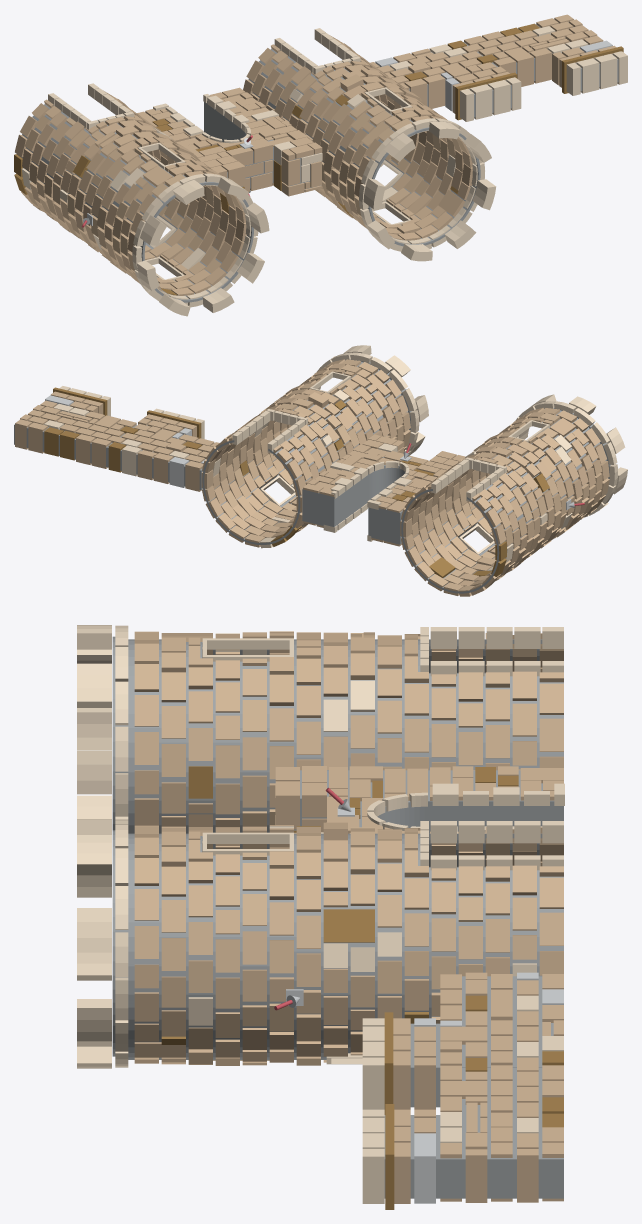
File: tinker.glb
The picture shows the model from 3 angles, top to bottom: view 1: azimuth 30°, elevation 25°; view 2: azimuth 150°, elevation 25°; view 3: azimuth 270°, elevation 25°; orthographic projection. The views are drawn at different scales.
Visible parts, largest first — view 1: group_0_11107152, group_0_14860437, group_0_6383466, group_0_6306067, group_0_10988977; view 2: group_0_11107152, group_0_14860437, group_0_6383466, group_0_6306067, group_0_10988977; view 3: group_0_11107152, group_0_14860437, group_0_6383466, group_0_6306067, group_0_10988977.
Boxes of the visible parts, box(x1,y1,x2,y2) form: group_0_11107152: box(15, 14, 619, 295); group_0_14860437: box(21, 26, 627, 316); group_0_6383466: box(17, 22, 618, 302); group_0_6306067: box(14, 23, 623, 295); group_0_10988977: box(83, 40, 612, 225); group_0_11107152: box(15, 359, 609, 596); group_0_14860437: box(44, 345, 627, 570); group_0_6383466: box(14, 359, 610, 593); group_0_6306067: box(44, 387, 549, 577); group_0_10988977: box(45, 395, 574, 509); group_0_11107152: box(134, 631, 563, 1203); group_0_14860437: box(77, 625, 564, 1203); group_0_6383466: box(112, 636, 563, 1198); group_0_6306067: box(161, 766, 563, 1209); group_0_10988977: box(286, 799, 563, 1203).
Bounding box in the file's own units: 133 × 28.79 × 56.
